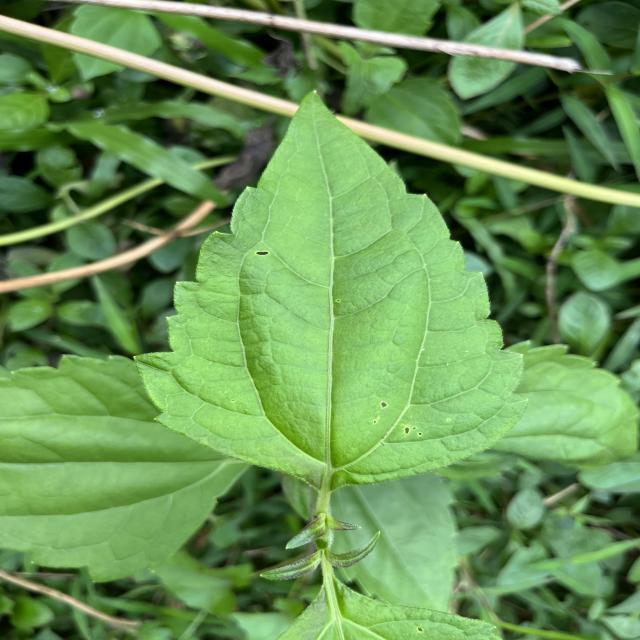Chromolaena odorata: (125, 83, 537, 500)
